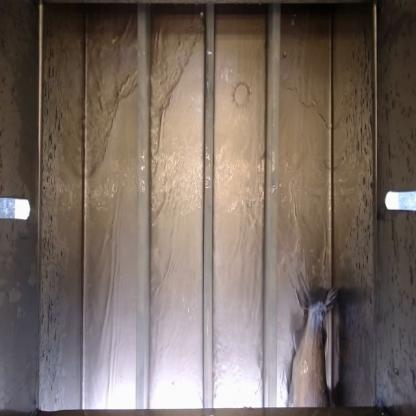pezw: (286, 279, 341, 409)
